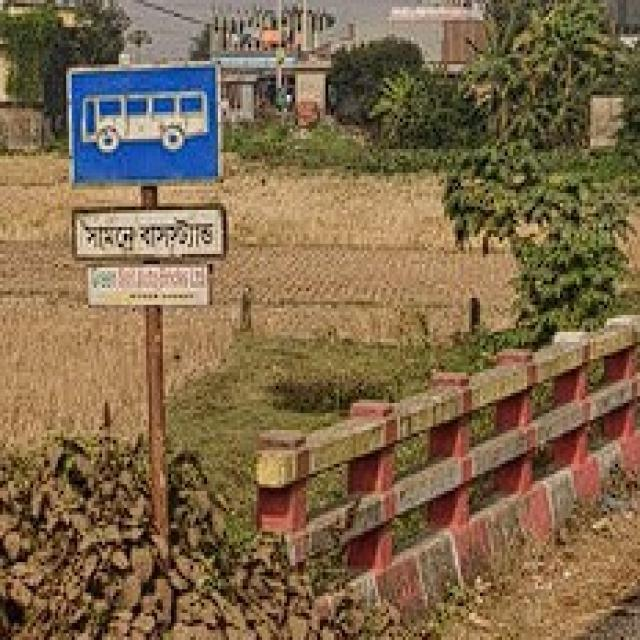Ahead-the-bus-station: (65, 66, 227, 263)
